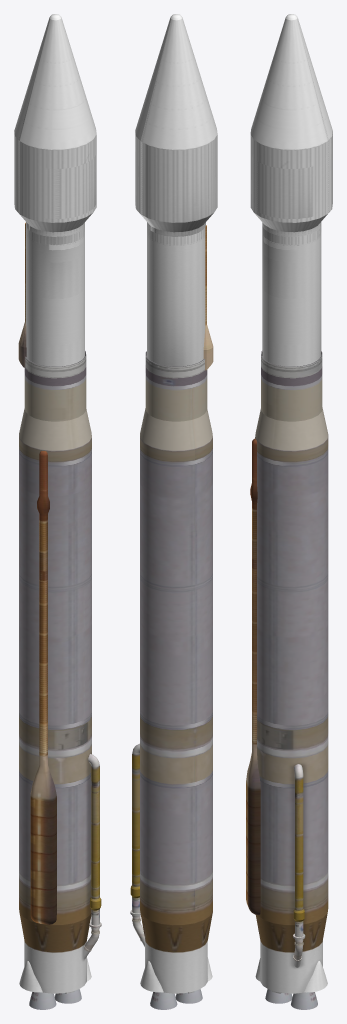
Rendered from atlas401c.glb.
The picture shows the model from 3 angles, left to right: view 1: azimuth 30°, elevation 25°; view 2: azimuth 210°, elevation 25°; view 3: azimuth 330°, elevation 25°; orthographic projection.
Visible parts, largest first — view 1: 1st_stage, fairing_front, 2nd_stage_centaur, fairing_back; view 2: 1st_stage, fairing_back, 2nd_stage_centaur, fairing_front; view 3: 1st_stage, fairing_front, 2nd_stage_centaur, fairing_back.
Boxes of the visible parts, x1,y1,x2,y2 form: 1st_stage: (19, 351, 101, 1009); fairing_front: (19, 14, 96, 236); 2nd_stage_centaur: (18, 222, 84, 367); fairing_back: (14, 17, 49, 230); 1st_stage: (130, 351, 212, 1009); fairing_back: (140, 17, 217, 236); 2nd_stage_centaur: (147, 225, 213, 370); fairing_front: (135, 14, 182, 229); 1st_stage: (246, 351, 328, 1009); fairing_front: (250, 14, 327, 236); 2nd_stage_centaur: (262, 224, 321, 366); fairing_back: (297, 18, 332, 230).
Bounding box in the file's own units: 4.31 × 56.63 × 4.31.
Materials: 1 (1 with a texture image).
